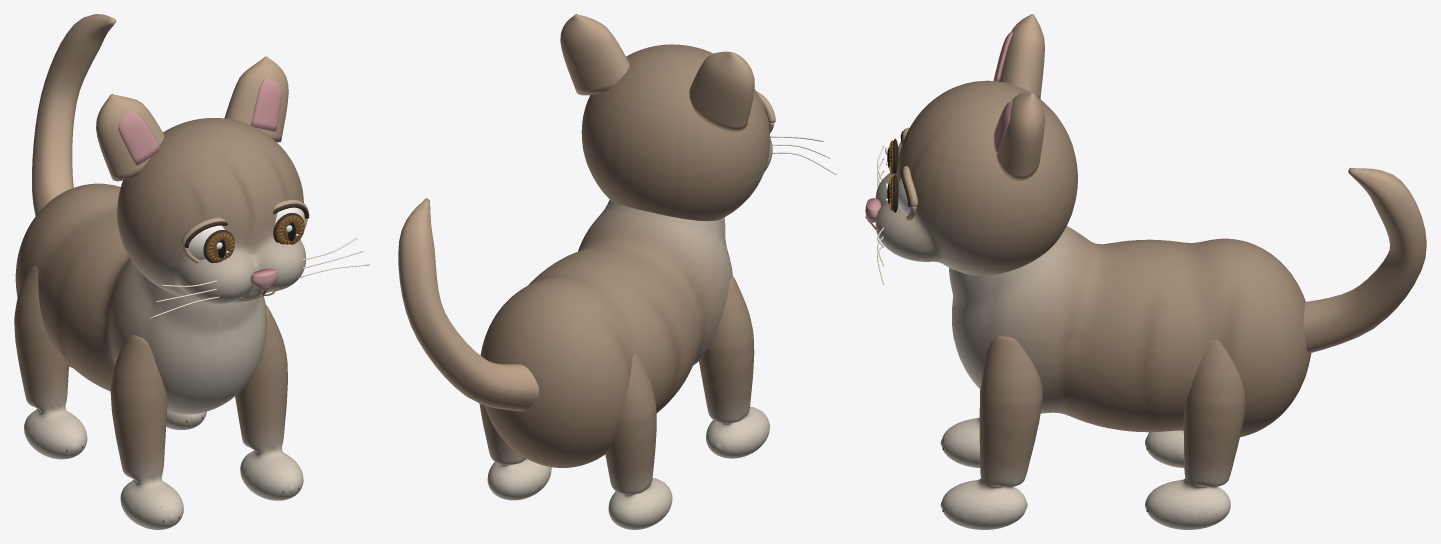
File: cat.glb
3 renders of one model, left to right at view 1: azimuth 30°, elevation 25°; view 2: azimuth 150°, elevation 25°; view 3: azimuth 270°, elevation 25°, orthographic. The views are drawn at different scales.
Parts seen in each view (by area): view 1: cat organic body, cat continuous face, cat leg and paw, Curved fluffy tail, cat leg and paw.001, cat leg and paw.002, Sculpted pointed ear, Sculpted pointed ear.001, Ear hollow, Ear hollow.001, cat leg and paw.003, Hazel iris.006 (+3 smaller); view 2: cat organic body, cat continuous face, Curved fluffy tail, cat leg and paw, cat leg and paw.001, Sculpted pointed ear, Sculpted pointed ear.001, cat leg and paw.003; view 3: cat organic body, cat continuous face, cat leg and paw.002, cat leg and paw.003, Curved fluffy tail, Sculpted pointed ear.001, Sculpted pointed ear, cat leg and paw, cat leg and paw.001.
Part boxes in pixels (bbox=[...]): cat organic body: bbox=[15, 183, 266, 414]; cat continuous face: bbox=[117, 118, 306, 303]; cat leg and paw: bbox=[110, 335, 183, 529]; Curved fluffy tail: bbox=[32, 14, 116, 215]; cat leg and paw.001: bbox=[14, 266, 87, 459]; cat leg and paw.002: bbox=[235, 304, 303, 500]; Sculpted pointed ear: bbox=[96, 94, 164, 181]; Sculpted pointed ear.001: bbox=[224, 56, 288, 142]; Ear hollow: bbox=[118, 111, 160, 165]; Ear hollow.001: bbox=[251, 78, 281, 131]; cat leg and paw.003: bbox=[166, 411, 206, 429]; Hazel iris.006: bbox=[206, 232, 234, 262]; cat organic body: bbox=[480, 200, 732, 467]; cat continuous face: bbox=[581, 44, 772, 221]; Curved fluffy tail: bbox=[398, 198, 538, 411]; cat leg and paw: bbox=[699, 276, 769, 458]; cat leg and paw.001: bbox=[605, 353, 672, 529]; Sculpted pointed ear: bbox=[689, 51, 754, 131]; Sculpted pointed ear.001: bbox=[560, 14, 629, 95]; cat leg and paw.003: bbox=[479, 403, 551, 500]; cat organic body: bbox=[949, 226, 1311, 437]; cat continuous face: bbox=[875, 80, 1077, 275]; cat leg and paw.002: bbox=[940, 336, 1042, 529]; cat leg and paw.003: bbox=[1145, 339, 1245, 529]; Curved fluffy tail: bbox=[1303, 168, 1426, 353]; Sculpted pointed ear.001: bbox=[996, 92, 1044, 180]; Sculpted pointed ear: bbox=[1000, 14, 1044, 98]; cat leg and paw: bbox=[940, 389, 980, 467]; cat leg and paw.001: bbox=[1145, 430, 1184, 467].
Bounding box in the file's own units: 0.8811 × 1.6 × 1.84.
